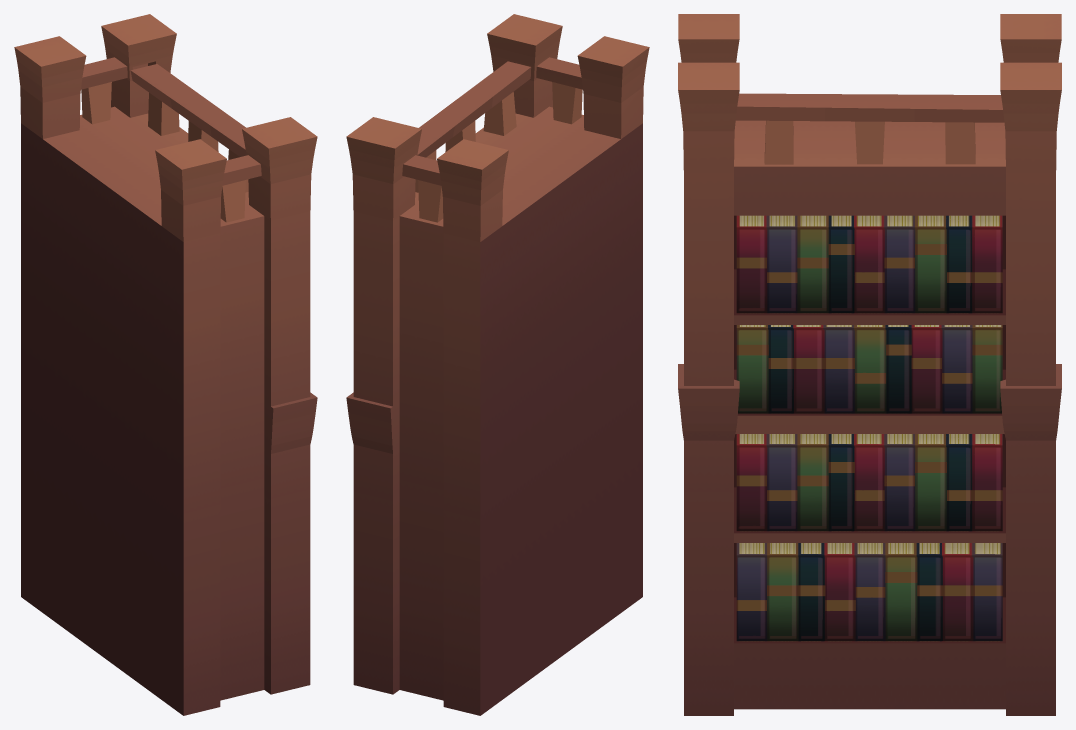
Rendered from Bookshelf_1.fbx.
The picture shows the model from 3 angles, left to right: view 1: azimuth 30°, elevation 25°; view 2: azimuth 150°, elevation 25°; view 3: azimuth 270°, elevation 25°; orthographic projection. The views are drawn at different scales.
Visible parts, largest first — view 1: Bookshelf_1; view 2: Bookshelf_1; view 3: Bookshelf_1, Books.002, Books.004, Books.001, Books.003.
Boxes of the visible parts, box(x1,y1,x2,y2) form: Bookshelf_1: box(14, 14, 317, 715); Bookshelf_1: box(346, 14, 649, 715); Bookshelf_1: box(678, 14, 1061, 715); Books.002: box(736, 543, 1002, 641); Books.004: box(736, 215, 1002, 313); Books.001: box(736, 434, 1002, 531); Books.003: box(736, 325, 1002, 413).
Bounding box in the file's own units: 58.97 × 228 × 126.
